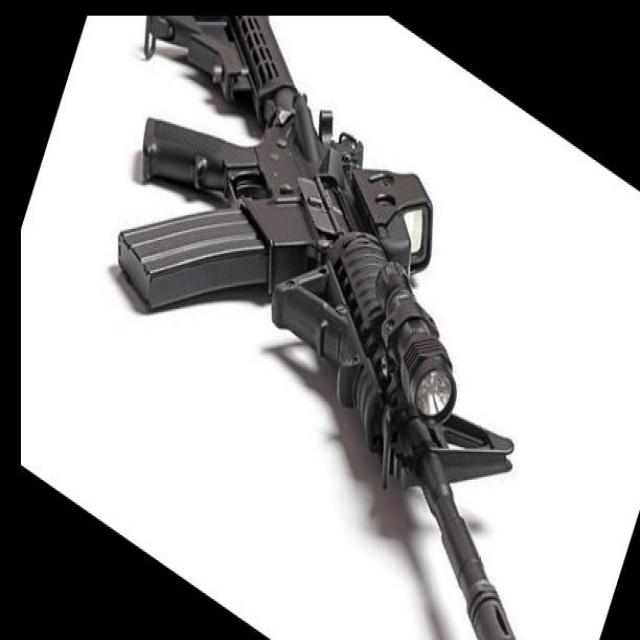heavy-weapon: (117, 15, 516, 640)
